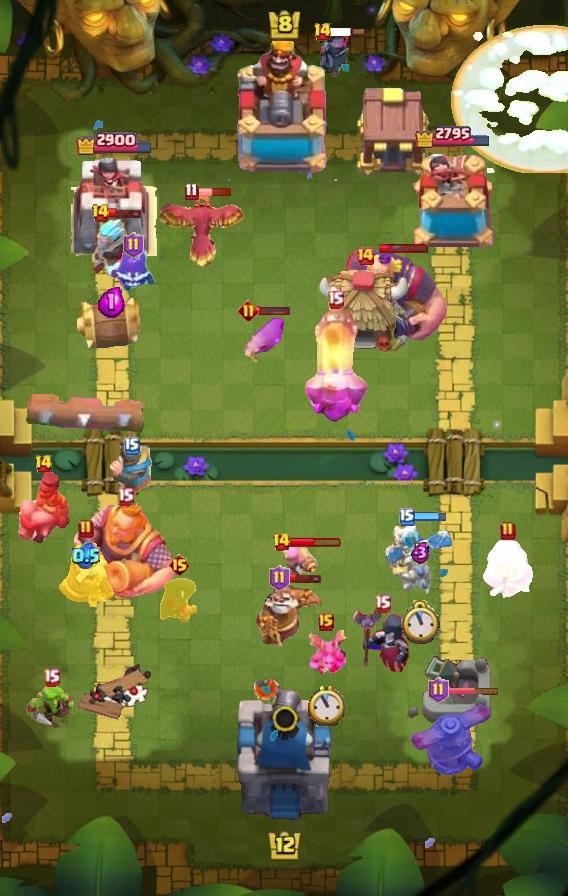battle-ram: (317, 31, 351, 77)
bomb: (354, 84, 434, 178)
dark-prince: (404, 690, 494, 780)
electro-spirit: (99, 286, 125, 319), (72, 542, 100, 570), (411, 540, 430, 563)
elite-barbarian: (13, 470, 73, 544)
elixir: (401, 599, 440, 644), (308, 685, 345, 726)
elixir-collector: (255, 577, 325, 649), (56, 537, 116, 607), (479, 532, 537, 598)
emote: (289, 536, 343, 548), (379, 243, 429, 254), (446, 685, 500, 694), (107, 207, 143, 219), (287, 572, 323, 584), (412, 511, 448, 522), (256, 304, 291, 315), (330, 27, 366, 37), (197, 187, 232, 197)
firecracker: (110, 445, 154, 500)
furnace: (301, 304, 369, 424)
giant: (238, 316, 290, 366)
giant-skeleton: (72, 499, 178, 601)
golden-knight: (156, 195, 248, 269)
hog-rider: (249, 674, 287, 726)
king-tower: (228, 41, 340, 181), (232, 686, 336, 826)
lightning: (323, 247, 448, 345)
mini-pekka: (384, 519, 456, 599)
minion: (23, 394, 147, 434)
mortar: (88, 218, 132, 280)
phoenix-big: (452, 25, 568, 173)
prince: (318, 268, 412, 358)
queen-tower: (405, 154, 501, 256), (71, 156, 157, 256)
rascal-boy: (352, 603, 412, 675)
royal-delivery: (306, 626, 346, 676)
selected: (74, 129, 154, 154), (414, 124, 492, 148)
spear-goblin: (107, 247, 159, 291)
tesla: (157, 577, 201, 625)
text: (168, 553, 191, 577), (123, 232, 144, 258), (270, 565, 291, 591), (428, 677, 449, 703), (238, 299, 259, 321), (355, 246, 375, 266), (272, 532, 292, 552), (312, 22, 331, 42), (90, 203, 109, 223), (35, 454, 54, 474), (117, 486, 135, 505), (327, 290, 344, 309), (43, 668, 60, 687), (78, 519, 94, 539), (500, 521, 516, 541), (373, 595, 390, 613), (124, 437, 140, 455), (399, 508, 415, 526), (318, 613, 334, 631), (185, 183, 199, 202)
the-log: (74, 297, 148, 349)
tombstone: (278, 540, 319, 582)
zap: (26, 685, 76, 729)
